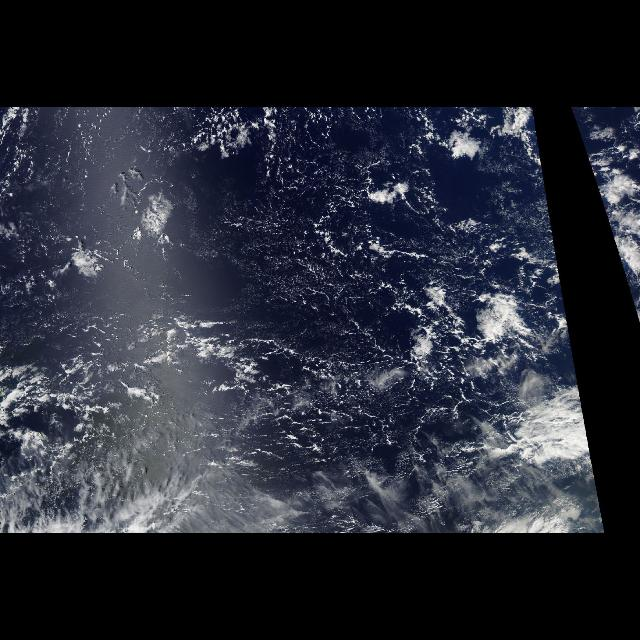Gravel: (2, 115, 472, 459)
